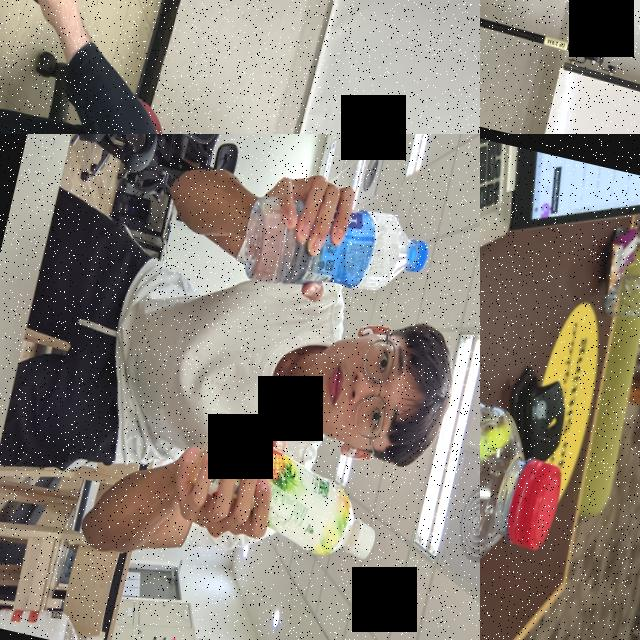bottle: (176, 406, 395, 572), (229, 180, 435, 322), (480, 339, 580, 575)
